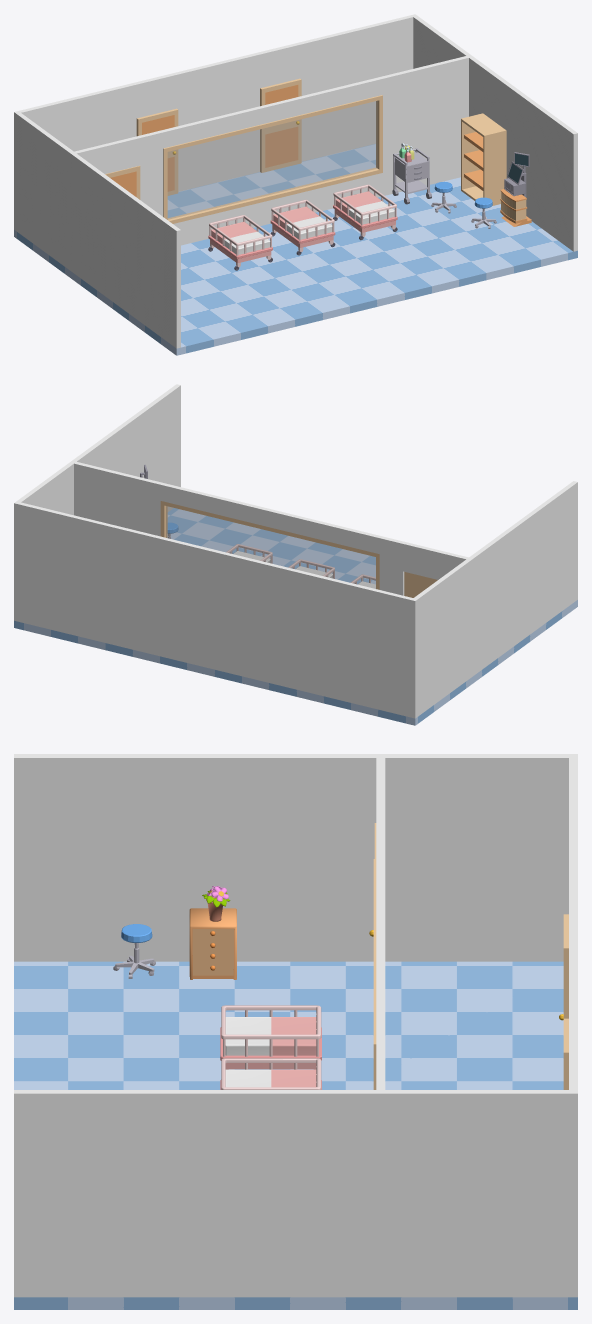
Rendered from Nursery.fbx.
3 renders of one model, top to bottom at view 1: azimuth 30°, elevation 25°; view 2: azimuth 150°, elevation 25°; view 3: azimuth 270°, elevation 25°, orthographic. The views are drawn at different scales.
Visible parts, largest first — view 1: Floor_00_1, Wall_M_01_3, polySurface48, Wall_M_01_1, polySurface49, Wall_M_01_4, Assets_01_2, Door_m01_1, cradle_01_1, cradle_01_2, cradle_01_3, Assets_01_4 (+3 smaller); view 2: Wall_M_01_3, Wall_M_01_1, polySurface48, Floor_00_1, Wall_M_01_4, polySurface49, Door_m01_3; view 3: Wall_M_01_4, Wall_M_01_1, Floor_00_1, polySurface48, cradle_01_2, Wall_M_01_3, Assets_01_1, cradle_01_1, Chair_01_1.
Part boxes in pixels (x1=…): Floor_00_1: x1=14, y1=144, x2=577, y2=355; Wall_M_01_3: x1=14, y1=14, x2=417, y2=230; polySurface48: x1=69, y1=55, x2=472, y2=270; Wall_M_01_1: x1=14, y1=111, x2=180, y2=348; polySurface49: x1=168, y1=101, x2=377, y2=219; Wall_M_01_4: x1=411, y1=15, x2=577, y2=251; Assets_01_2: x1=461, y1=113, x2=506, y2=205; Door_m01_1: x1=260, y1=78, x2=301, y2=172; cradle_01_1: x1=270, y1=199, x2=335, y2=255; cradle_01_2: x1=208, y1=215, x2=272, y2=270; cradle_01_3: x1=333, y1=184, x2=397, y2=240; Assets_01_4: x1=500, y1=152, x2=531, y2=226; Wall_M_01_3: x1=14, y1=501, x2=417, y2=718; Wall_M_01_1: x1=411, y1=481, x2=577, y2=718; polySurface48: x1=70, y1=460, x2=473, y2=675; Floor_00_1: x1=14, y1=508, x2=577, y2=725; Wall_M_01_4: x1=14, y1=384, x2=180, y2=621; polySurface49: x1=166, y1=506, x2=375, y2=588; Door_m01_3: x1=404, y1=572, x2=437, y2=597; Wall_M_01_4: x1=14, y1=1090, x2=577, y2=1297; Wall_M_01_1: x1=14, y1=754, x2=577, y2=961; Floor_00_1: x1=14, y1=961, x2=577, y2=1309; polySurface48: x1=373, y1=754, x2=385, y2=1297; cradle_01_2: x1=220, y1=1005, x2=321, y2=1069; Wall_M_01_3: x1=569, y1=754, x2=577, y2=1297; Assets_01_1: x1=189, y1=908, x2=236, y2=979; cradle_01_1: x1=220, y1=1058, x2=321, y2=1089; Chair_01_1: x1=113, y1=924, x2=155, y2=978.
Size of the model in its own units: 5379 by 1597 by 3776.
3 materials, 2 textured.
